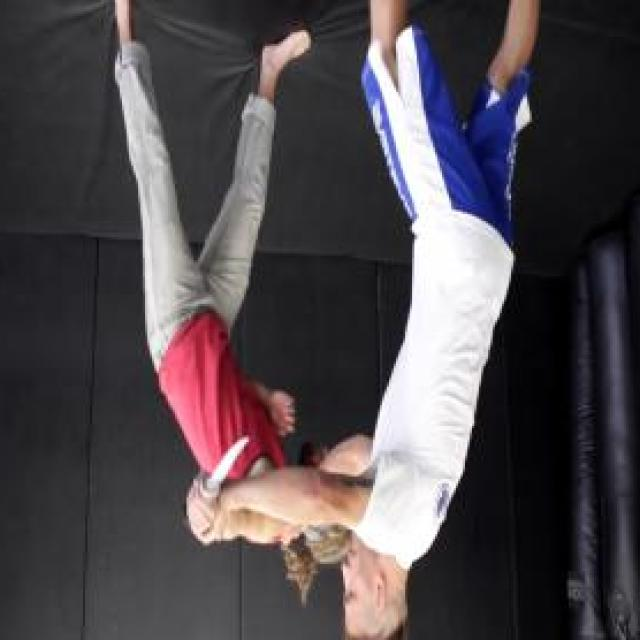knife: (180, 424, 254, 534)
